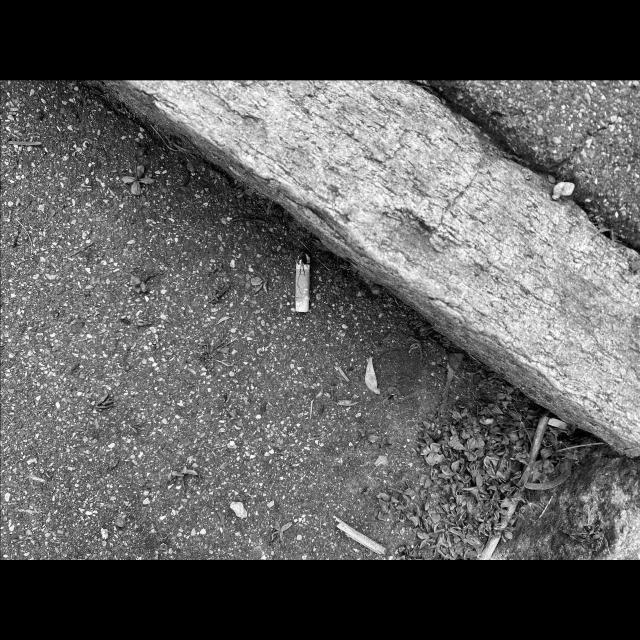cigarette: (295, 251, 310, 312)
